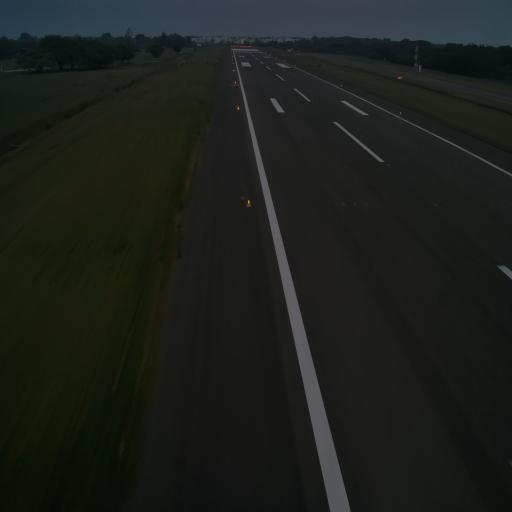off: (352, 198, 360, 212), (432, 198, 440, 210), (340, 199, 346, 211), (386, 159, 392, 170), (364, 198, 369, 210)
on: (245, 195, 251, 209), (397, 109, 403, 118)
